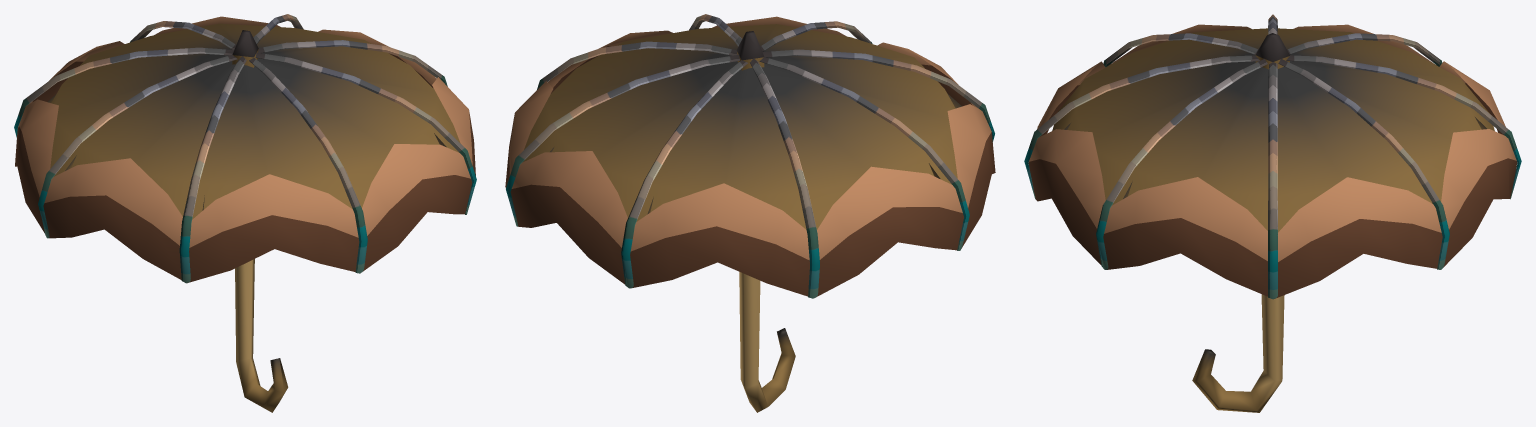
File: shroom_bottom.glb
3 renders of one model, left to right at view 1: azimuth 30°, elevation 25°; view 2: azimuth 150°, elevation 25°; view 3: azimuth 270°, elevation 25°, orthographic. The views are drawn at different scales.
Visible parts, largest first — view 1: Sphere.024, Cylinder.031; view 2: Sphere.024, Cylinder.031; view 3: Sphere.024, Cylinder.031.
Part boxes in pixels (left/top/right/bottom): Sphere.024: left=14, top=14, right=476, bottom=283; Cylinder.031: left=232, top=30, right=288, bottom=412; Sphere.024: left=505, top=14, right=995, bottom=298; Cylinder.031: left=736, top=31, right=795, bottom=412; Sphere.024: left=1024, top=14, right=1521, bottom=299; Cylinder.031: left=1192, top=33, right=1289, bottom=412.
Size of the model in its own units: 2.09 by 1.76 by 2.09.
Materials: 1 (1 with a texture image).
